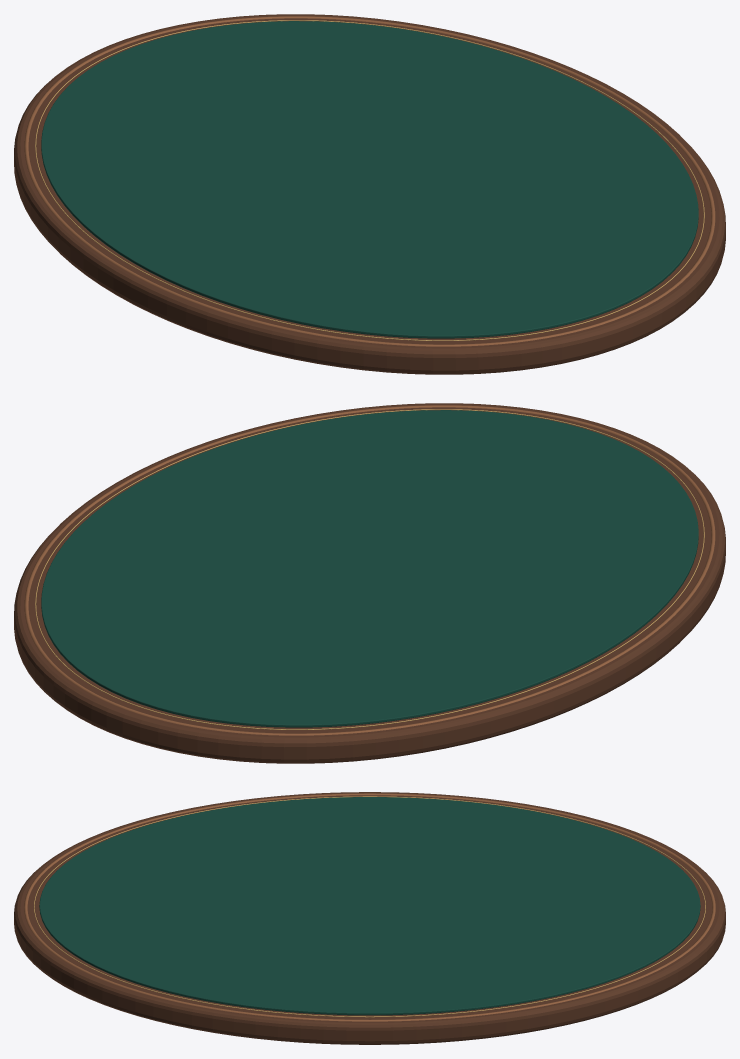
The model's file is poker_table.glb.
The picture shows the model from 3 angles, top to bottom: view 1: azimuth 30°, elevation 25°; view 2: azimuth 150°, elevation 25°; view 3: azimuth 270°, elevation 25°; orthographic projection. The views are drawn at different scales.
Parts seen in each view (by area): view 1: FeltPlayingSurface, SolidWalnutTable, PolishedWoodRail, BrassOuterAccent; view 2: FeltPlayingSurface, SolidWalnutTable, PolishedWoodRail, BrassOuterAccent; view 3: FeltPlayingSurface, SolidWalnutTable, PolishedWoodRail, BrassOuterAccent.
Part boxes in pixels (x1,y1,x2,y2): FeltPlayingSurface: [41, 21, 698, 338]; SolidWalnutTable: [14, 14, 725, 374]; PolishedWoodRail: [24, 16, 715, 346]; BrassOuterAccent: [35, 20, 704, 340]; FeltPlayingSurface: [41, 410, 698, 727]; SolidWalnutTable: [14, 403, 725, 763]; PolishedWoodRail: [24, 405, 715, 735]; BrassOuterAccent: [35, 409, 704, 729]; FeltPlayingSurface: [39, 797, 700, 1015]; SolidWalnutTable: [14, 792, 725, 1044]; PolishedWoodRail: [24, 793, 715, 1021]; BrassOuterAccent: [34, 796, 705, 1017].
Bounding box in the file's own units: 1.64 × 0.079 × 2.1.
